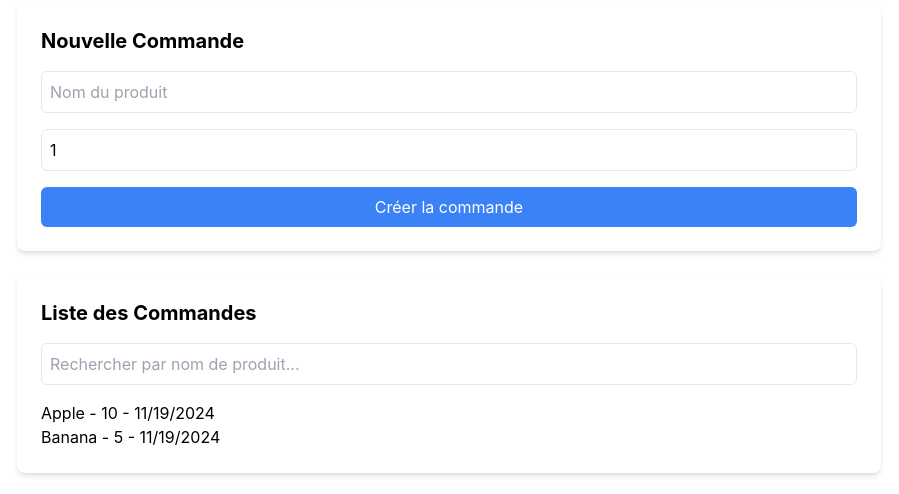
Test: OrderManager Component › filters orders by search term
The width and height of the screenshot is (899, 494).
Expected: the list item "Apple - 10 - 11/19/2024" is shown, [41, 403, 215, 423]
Expected: the list item "Banana - 5 - 11/19/2024" is shown, [41, 427, 220, 447]
Type "Apple" into the field with placeholder "Rechercher par nom de produit...".
click(449, 364); type("Apple")  # box [41, 343, 857, 385]
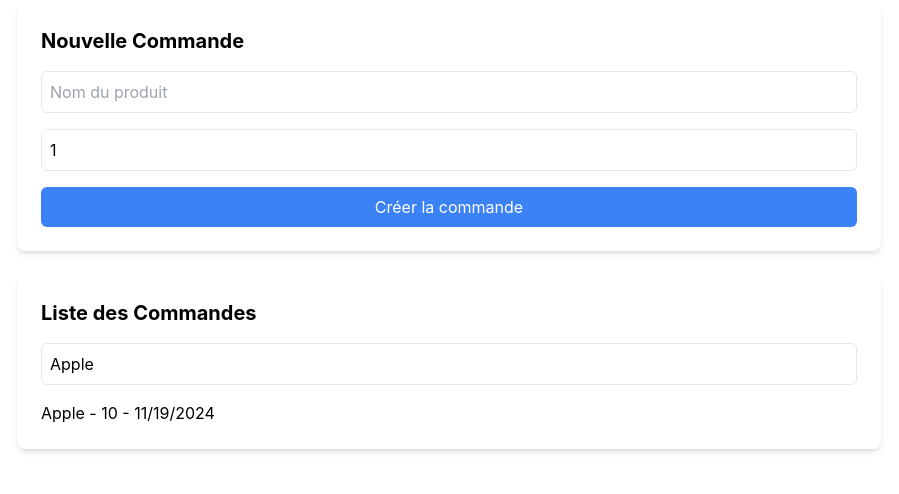
Expected: the list item "Apple - 10 - 11/19/2024" is shown, [41, 403, 215, 423]
Expected: the list item "Banana - 5" is gone
